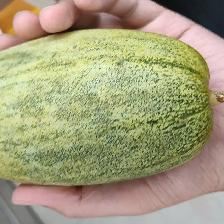gua: (30, 48, 208, 172)
